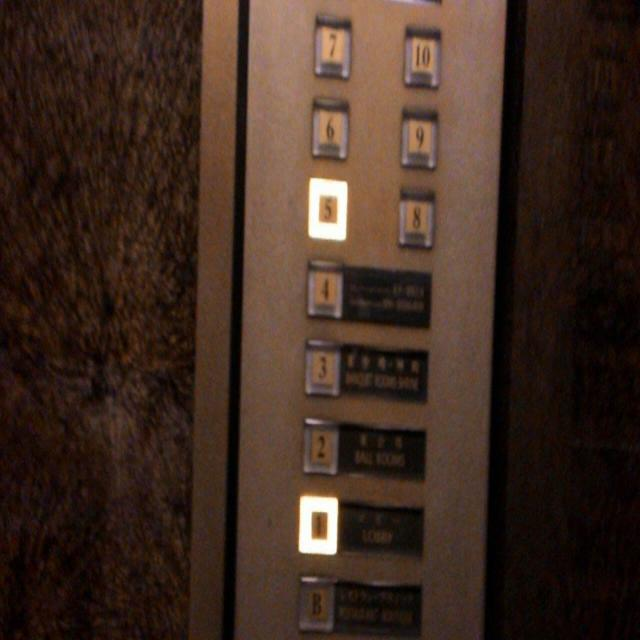1: (296, 490, 340, 557)
10: (399, 19, 443, 92)
2: (300, 413, 340, 479)
3: (301, 333, 344, 402)
4: (303, 253, 345, 323)
5: (305, 172, 349, 244)
6: (308, 89, 352, 164)
7: (311, 12, 354, 82)
8: (395, 187, 437, 250)
9: (396, 102, 440, 172)
B: (294, 572, 338, 636)
